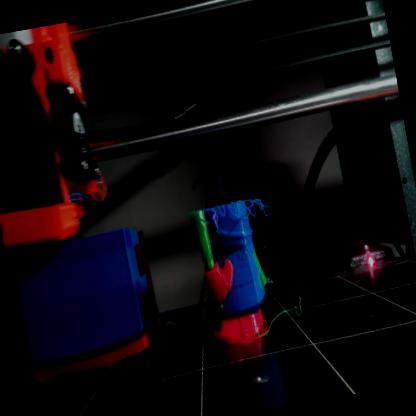fail: (217, 196, 277, 226), (265, 293, 309, 332), (264, 264, 278, 289)
